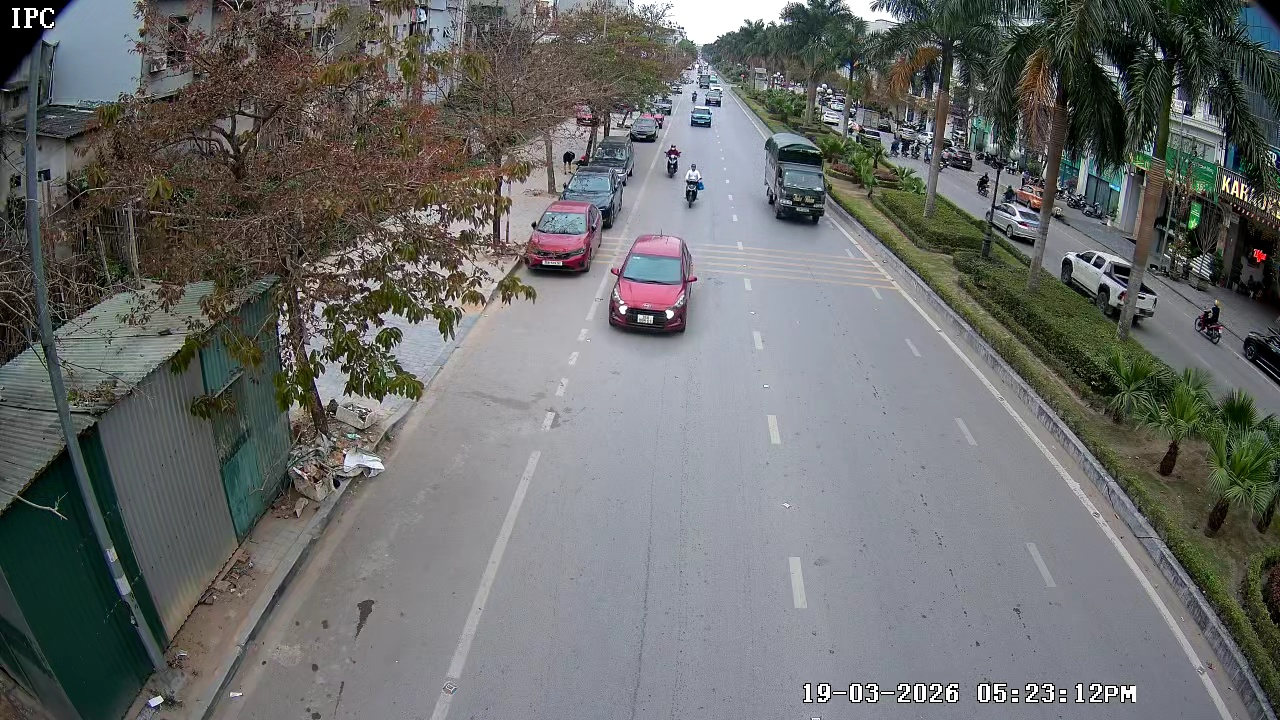car: (608, 233, 698, 336), (525, 199, 601, 276), (689, 105, 714, 131)
motorbike: (682, 163, 705, 210), (664, 142, 681, 180)
truck: (763, 131, 830, 224)
